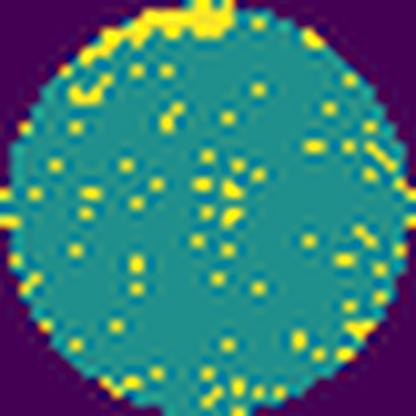Edge-Loc: (74, 0, 242, 71)
